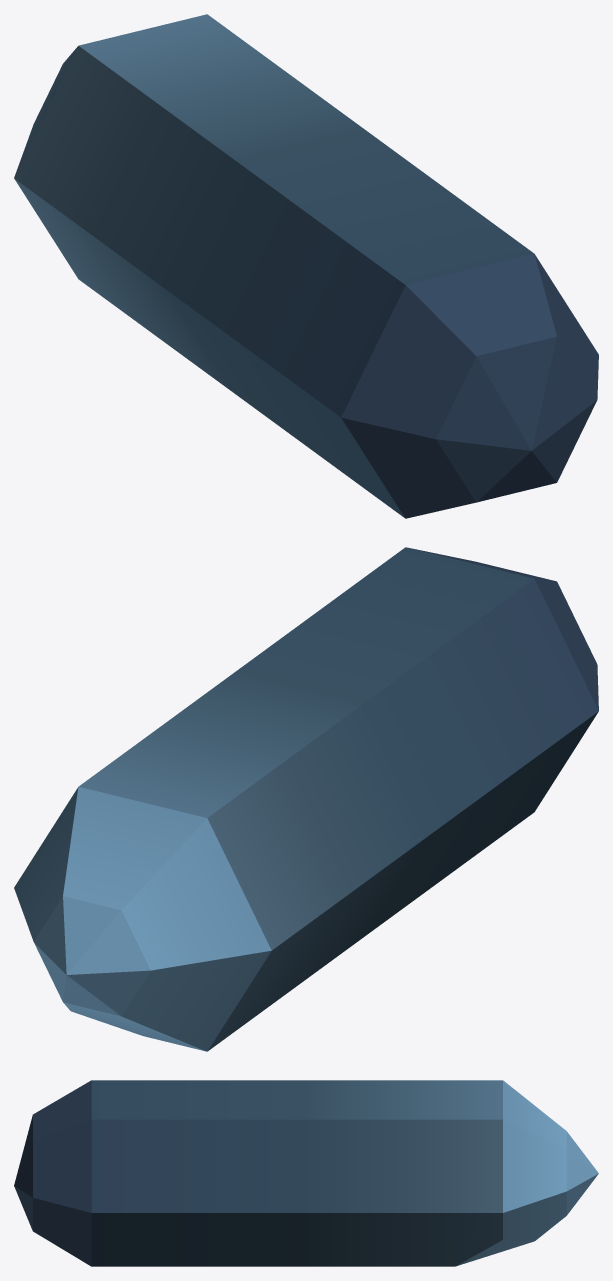
The model's file is IceCrystal.005.glb.
3 views of the same model, one above another, from view 1: azimuth 30°, elevation 25°; view 2: azimuth 150°, elevation 25°; view 3: azimuth 270°, elevation 25° (orthographic). The views are drawn at different scales.
Parts seen in each view (by area): view 1: IceCrystal.005; view 2: IceCrystal.005; view 3: IceCrystal.005.
Part boxes in pixels (x1,y1,x2,y2): IceCrystal.005: (14, 14, 598, 518); IceCrystal.005: (14, 547, 598, 1051); IceCrystal.005: (14, 1080, 598, 1266).
Bounding box in the file's own units: 221 × 192 × 692.
